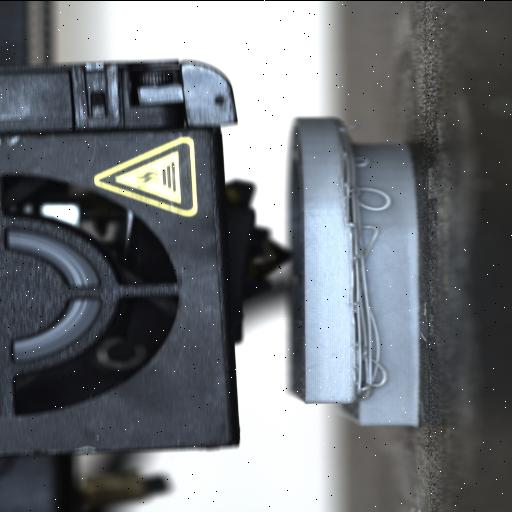layer_shift: (333, 114, 365, 427)
